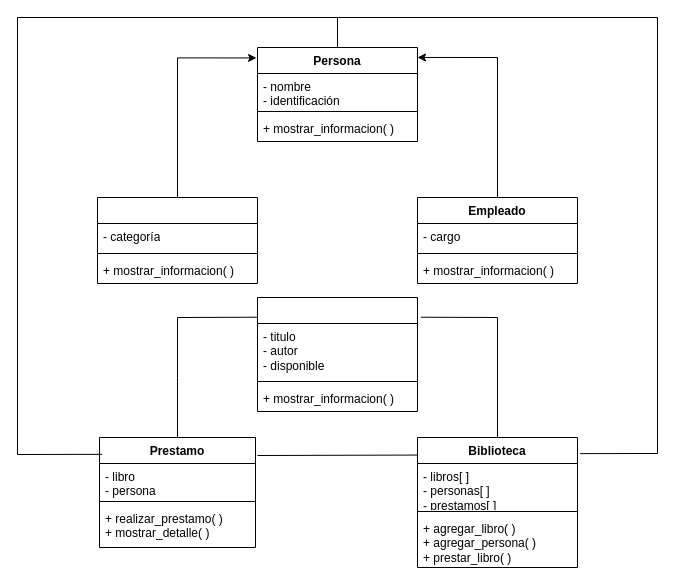
The diagram is 676 pixels wide and 588 high, and some of its shapes have lost their labels. Each missing label, with the box of its shape:
Cliente: (96, 196, 258, 284)
Libro: (256, 296, 418, 412)
